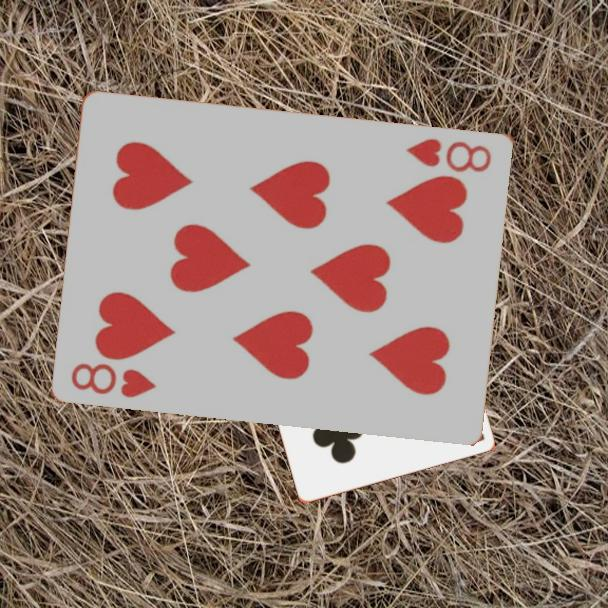h08: (403, 134, 495, 175), (68, 359, 160, 400)
